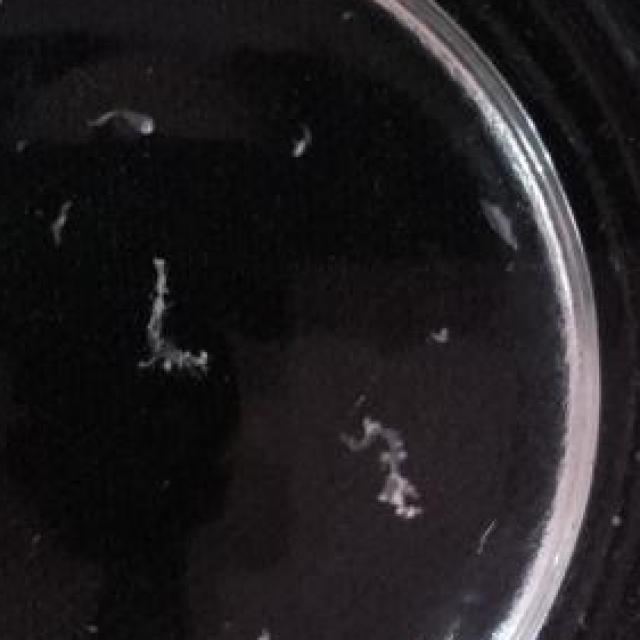Microplastic: (134, 259, 219, 371), (337, 407, 421, 516), (64, 107, 162, 148), (469, 190, 526, 243), (285, 102, 319, 157), (235, 611, 282, 640)
